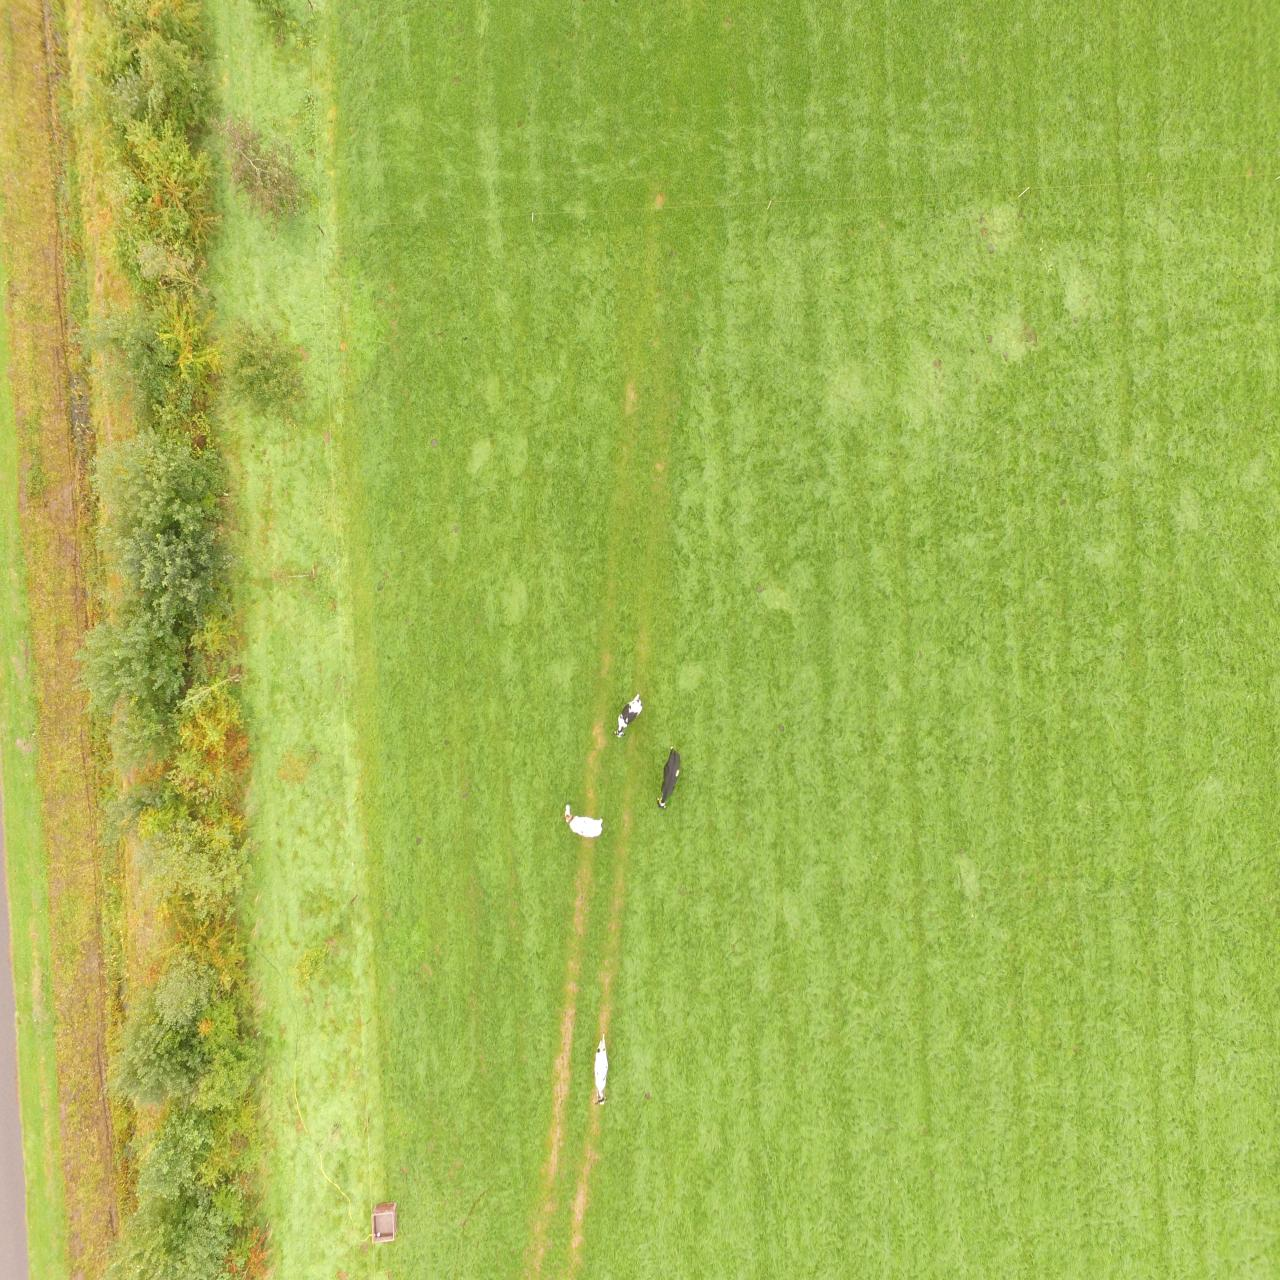cow: (654, 742, 685, 813), (559, 798, 606, 844), (612, 688, 645, 742), (588, 1030, 611, 1108)
